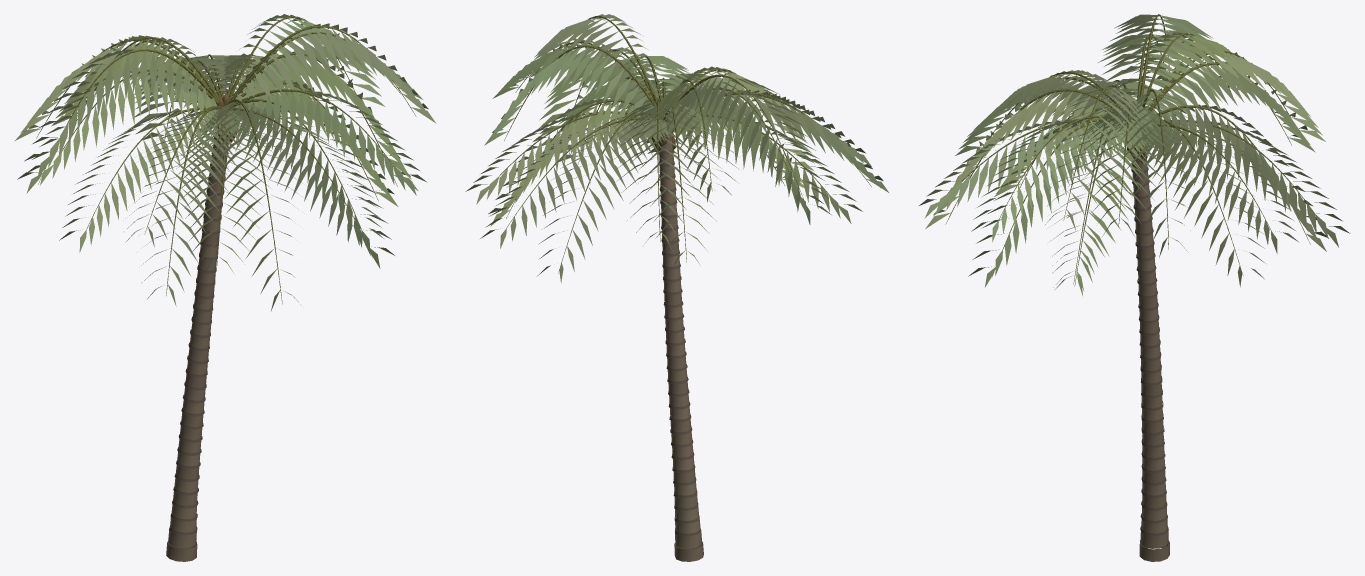
The model's file is palm.glb.
3 views of the same model, side by side, from view 1: azimuth 30°, elevation 25°; view 2: azimuth 150°, elevation 25°; view 3: azimuth 270°, elevation 25° (orthographic). The views are drawn at different scales.
Visible parts, largest first — view 1: CanaryPalm; view 2: CanaryPalm; view 3: CanaryPalm.
Boxes of the visible parts, bbox=[...] form: CanaryPalm: bbox=[15, 14, 436, 561]; CanaryPalm: bbox=[465, 14, 888, 561]; CanaryPalm: bbox=[919, 14, 1350, 561].
Bounding box in the file's own units: 8.3 × 11.19 × 8.41.
